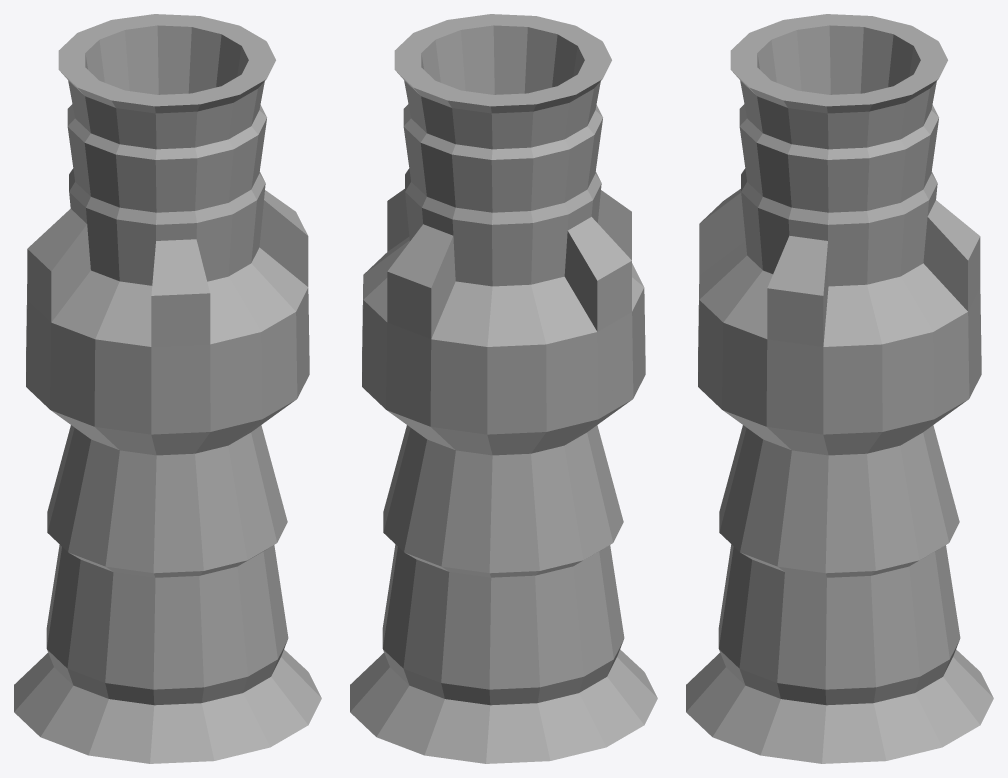
The model's file is vasolongo_templo.fbx.
3 views of the same model, side by side, from view 1: azimuth 30°, elevation 25°; view 2: azimuth 150°, elevation 25°; view 3: azimuth 270°, elevation 25° (orthographic).
Visible parts, largest first — view 1: Cylinder; view 2: Cylinder; view 3: Cylinder.
Boxes of the visible parts, x1,y1,x2,y2 form: Cylinder: (14,14,321,763); Cylinder: (350,14,657,763); Cylinder: (686,14,993,763).
Size of the model in its own units: 199 by 453 by 198.
1 material, 1 textured.
